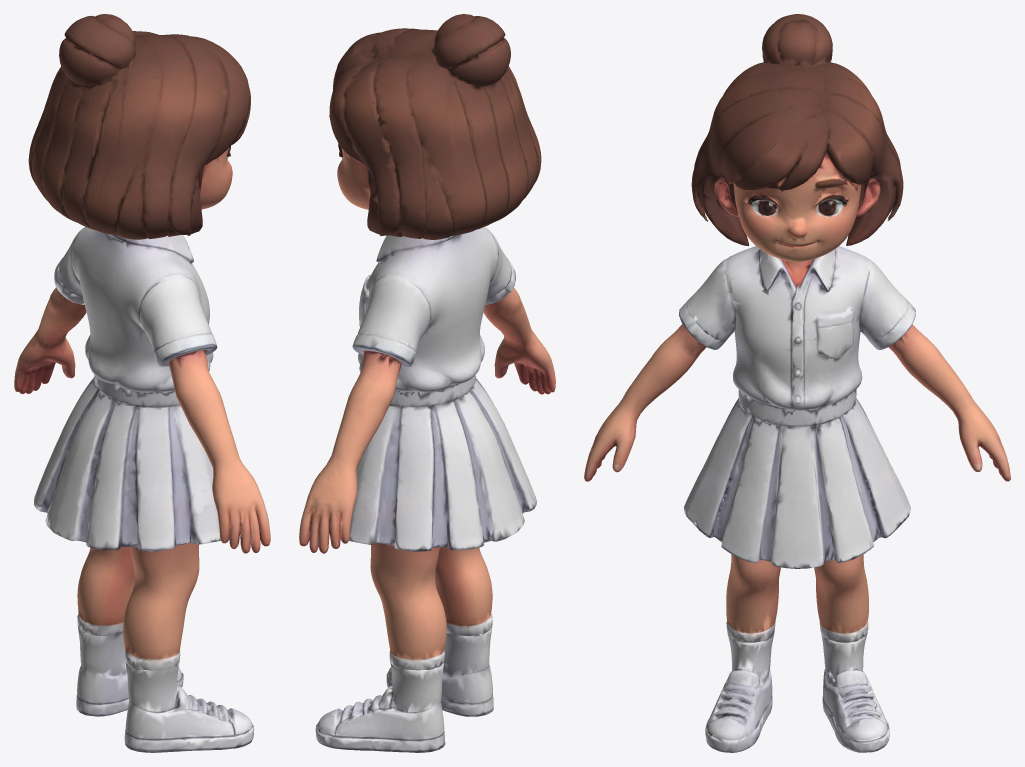
The model's file is girl.glb.
3 renders of one model, left to right at view 1: azimuth 30°, elevation 25°; view 2: azimuth 150°, elevation 25°; view 3: azimuth 270°, elevation 25°, orthographic. The views are drawn at different scales.
Parts seen in each view (by area): view 1: tripo_node_90fe5831-5edd-4f7d-b0ca-46f869f80f08; view 2: tripo_node_90fe5831-5edd-4f7d-b0ca-46f869f80f08; view 3: tripo_node_90fe5831-5edd-4f7d-b0ca-46f869f80f08.
Part boxes in pixels (<box>): tripo_node_90fe5831-5edd-4f7d-b0ca-46f869f80f08: <box>14,14,270,752</box>; tripo_node_90fe5831-5edd-4f7d-b0ca-46f869f80f08: <box>299,14,555,752</box>; tripo_node_90fe5831-5edd-4f7d-b0ca-46f869f80f08: <box>584,14,1010,752</box>.
Size of the model in its own units: 0.2731 by 1 by 0.5684.
Materials: 1 (1 with a texture image).
